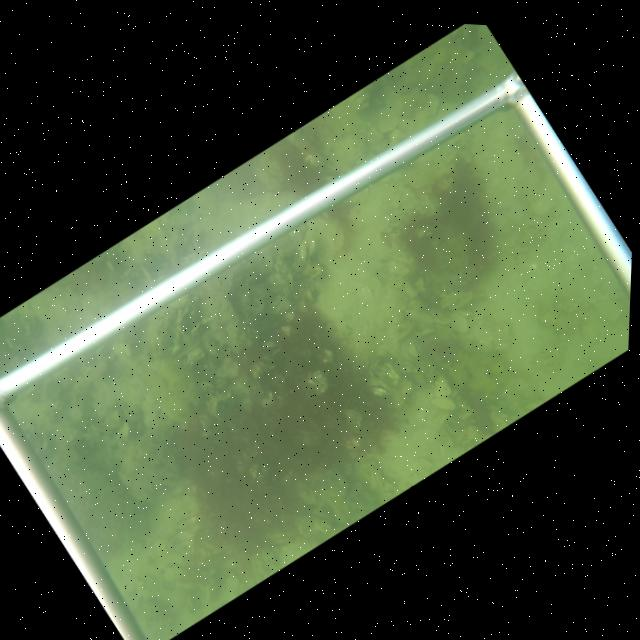Oyster-Indeterminate: (431, 396, 457, 409), (171, 343, 182, 356)
Oyster-Open: (298, 238, 317, 265), (367, 377, 393, 395), (190, 320, 204, 336)
